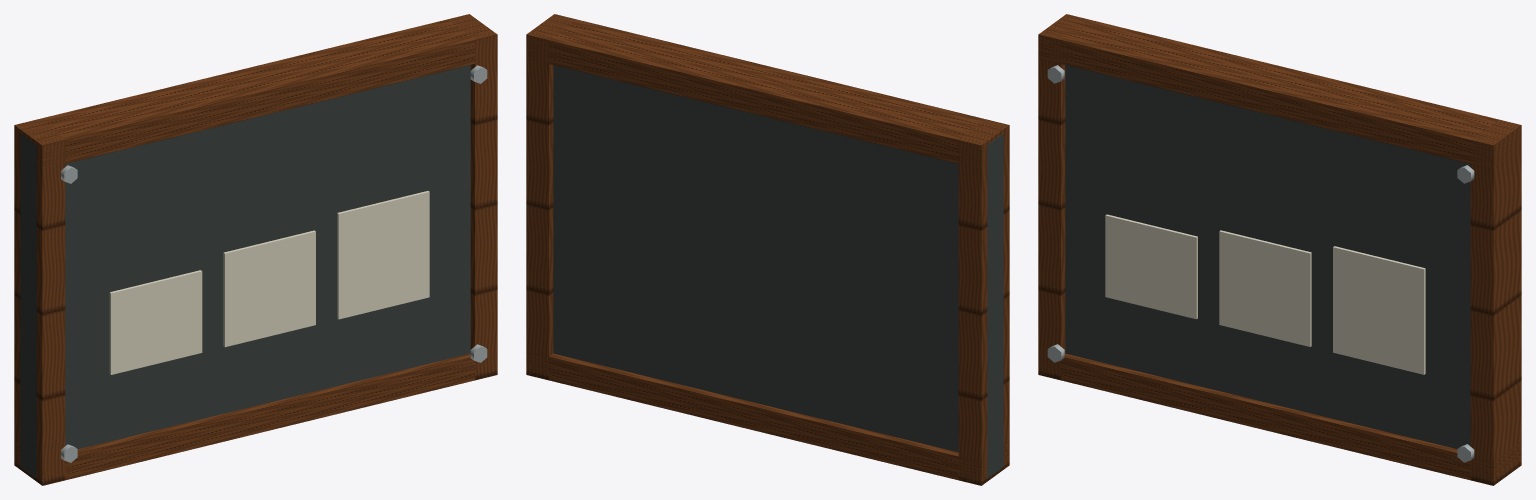
The model's file is rural-scavenging-settlements-village-notice-board-8d9e4391__26593.glb.
3 views of the same model, side by side, from view 1: azimuth 30°, elevation 25°; view 2: azimuth 150°, elevation 25°; view 3: azimuth 330°, elevation 25° (orthographic).
Visible parts, largest first — view 1: village-notice-board; view 2: village-notice-board; view 3: village-notice-board.
Boxes of the visible parts, x1,y1,x2,y2 form: village-notice-board: (14, 14, 497, 485); village-notice-board: (526, 14, 1009, 485); village-notice-board: (1038, 14, 1521, 485).
Size of the model in its own units: 1.4 by 1 by 0.183.
4 materials, 1 textured.
